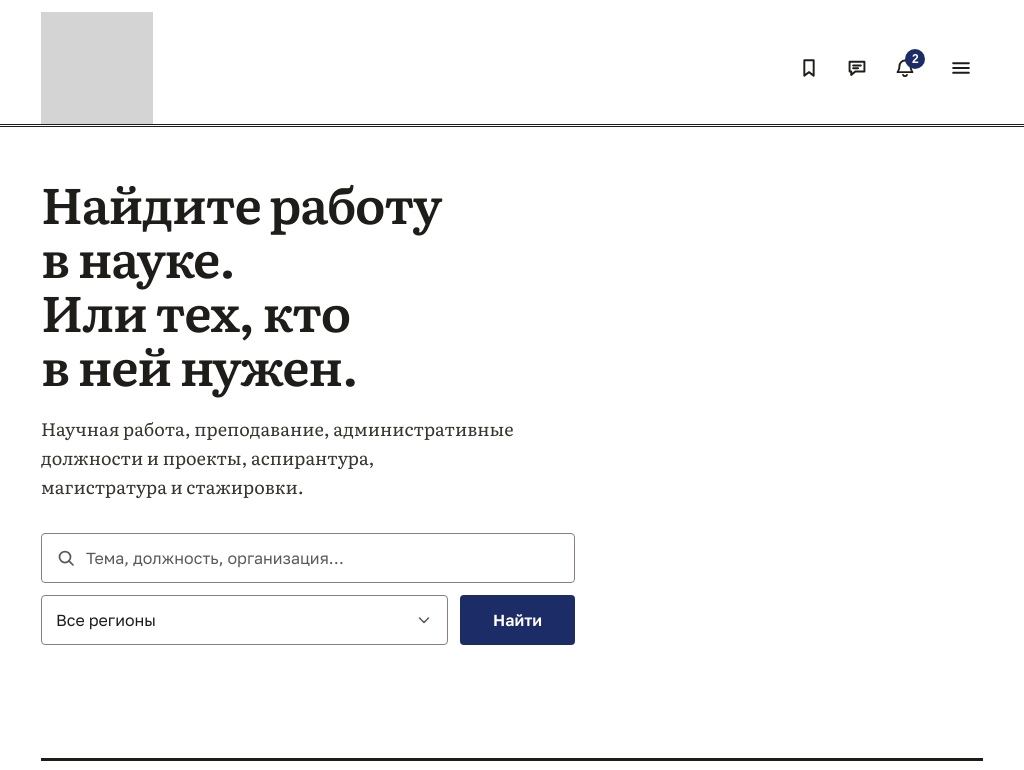
Test: bell in the header › says there is nothing, or that the list could not be loaded
Click the button named "непрочитанных": (905, 68) [883,46,927,90]
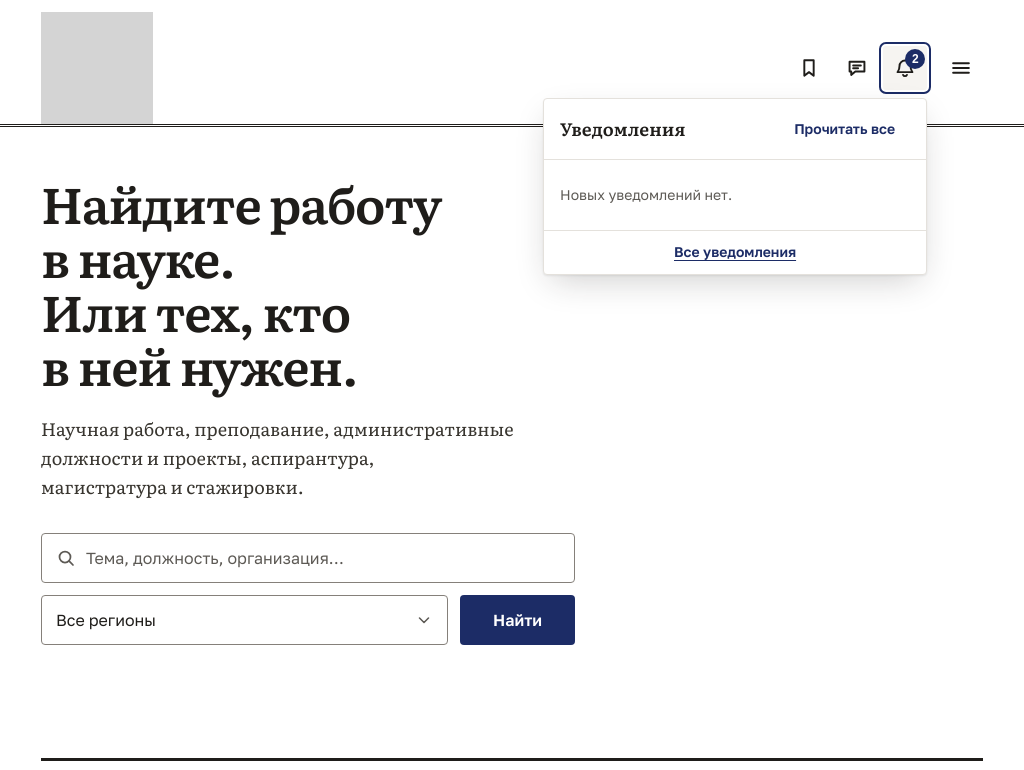
Now the text "Новых уведомлений нет." is shown, box [560,186,732,203]
